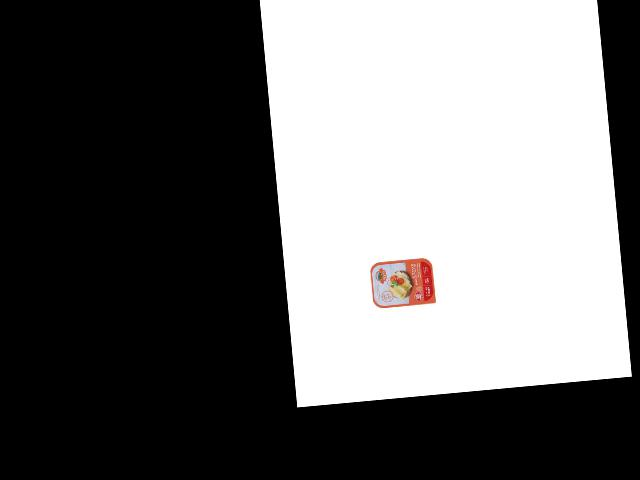cheese: (367, 254, 439, 310)
